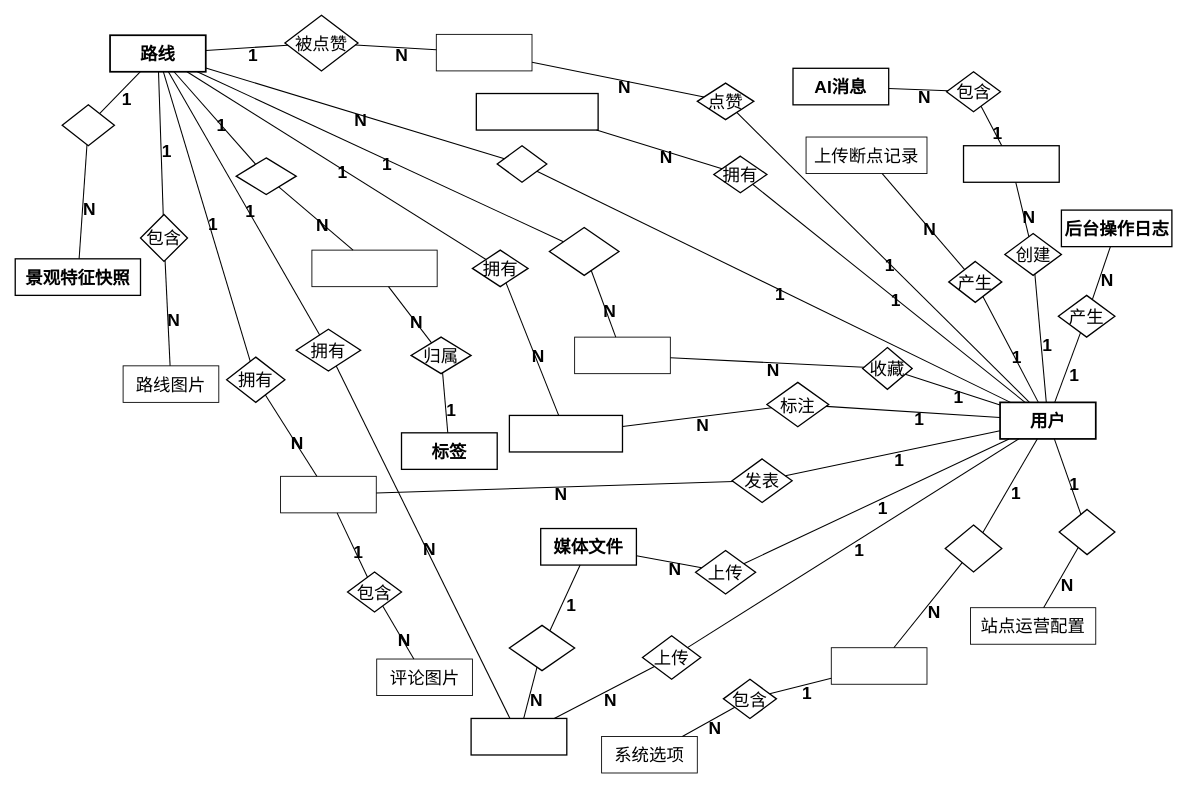
Image size: 1188x789. Some labels were removed from this diagram. Each missing label, with the centre of its shape:
AI会话: the point at 1010,164
关联: the point at 265,176
发布: the point at 521,164
对应: the point at 541,647
景观观测标签: the point at 565,433
生成: the point at 88,125
用户徒步画像: the point at 536,111
管理: the point at 973,548
系统选项组: the point at 878,665
维护: the point at 1086,531
被收藏: the point at 583,251
评论: the point at 328,494
路线收藏: the point at 622,355
路线标签关联: the point at 374,268
路线点赞: the point at 483,52
路线轨迹: the point at 518,736
